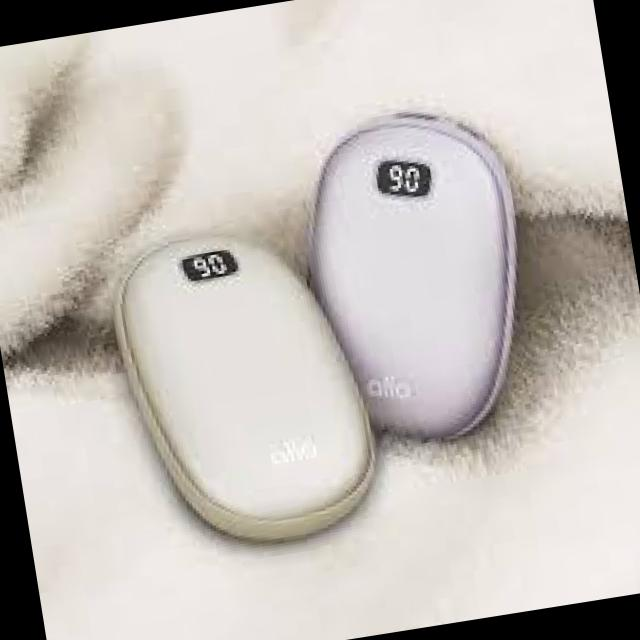portable-charger: (98, 208, 400, 572), (288, 88, 558, 466)
